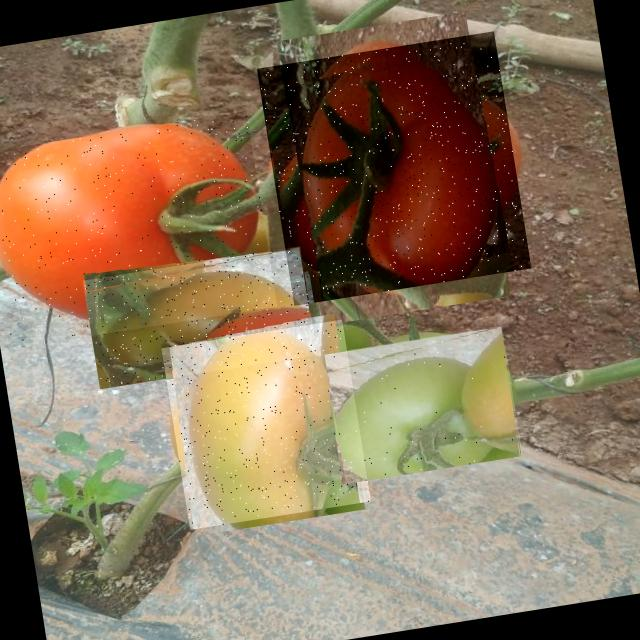Ripe Tomato: (257, 31, 532, 306), (0, 111, 277, 350)
Unripe Tomato: (161, 320, 371, 530), (82, 246, 316, 390), (326, 326, 522, 484)
